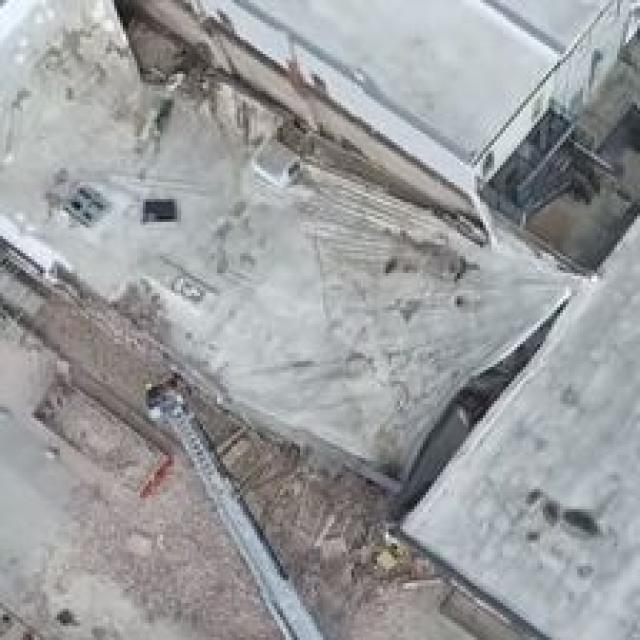collapsed_building: (29, 122, 520, 421)
